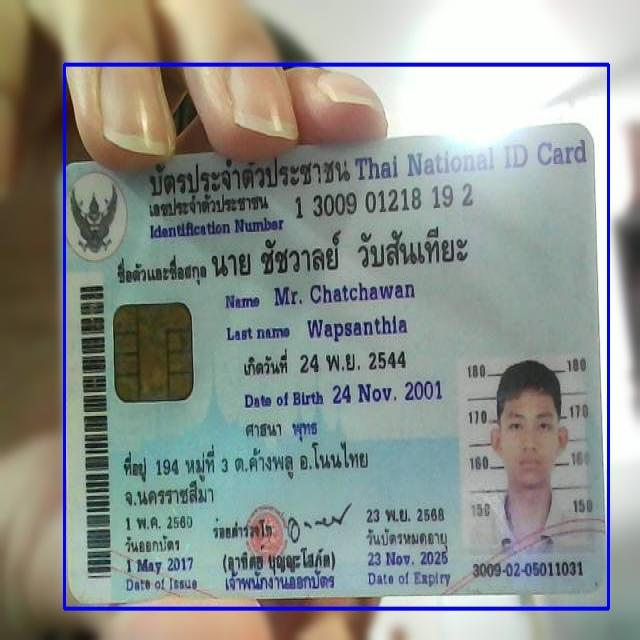Address_th: (110, 438, 387, 507)
Date_of_Birth: (329, 374, 446, 412)
Date_of_Expiry: (363, 548, 453, 573)
Date_of_Issue: (120, 555, 198, 578)
First_Name: (271, 279, 419, 308)
ID_Number: (291, 179, 478, 222)
Image: (460, 357, 592, 559)
Last_Name: (302, 313, 413, 344)
Thai_Name: (208, 228, 476, 282)
